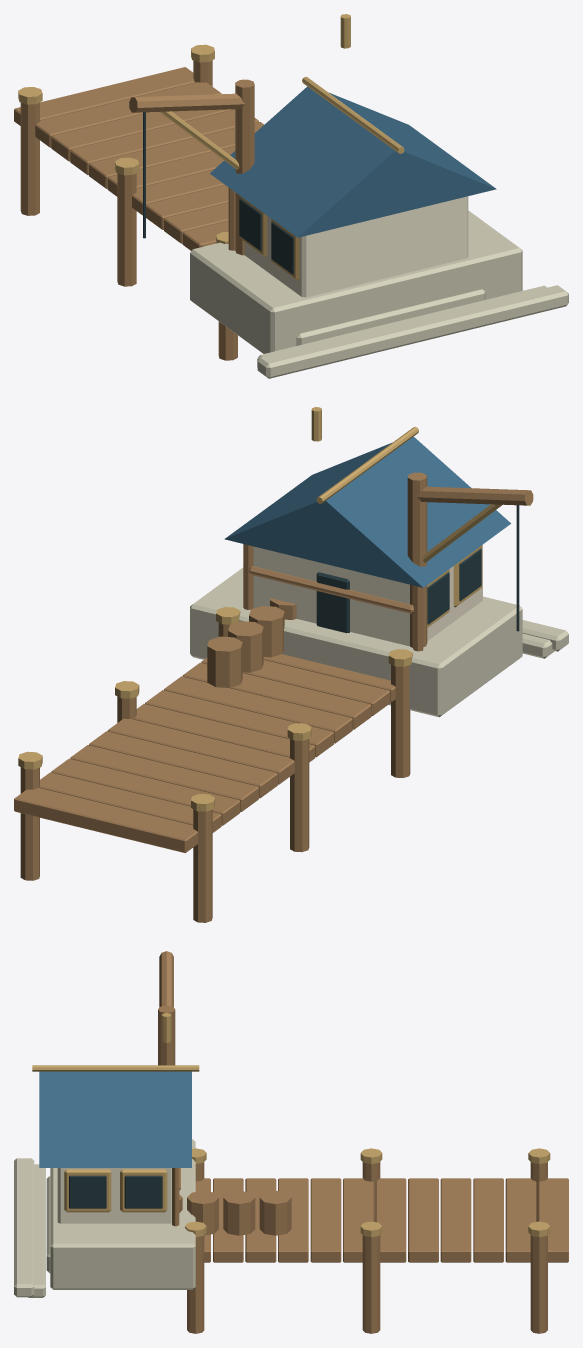
Rendered from level_14.glb.
3 renders of one model, top to bottom at view 1: azimuth 30°, elevation 25°; view 2: azimuth 150°, elevation 25°; view 3: azimuth 270°, elevation 25°, orthographic. The views are drawn at different scales.
Visible parts, largest first — view 1: fishing_wharf — level 14; view 2: fishing_wharf — level 14; view 3: fishing_wharf — level 14.
Boxes of the visible parts, x1=… form: fishing_wharf — level 14: x1=14, y1=14, x2=568, y2=378; fishing_wharf — level 14: x1=14, y1=407, x2=568, y2=922; fishing_wharf — level 14: x1=14, y1=951, x2=568, y2=1333.
Size of the model in its own units: 4.84 by 4.32 by 7.63.
